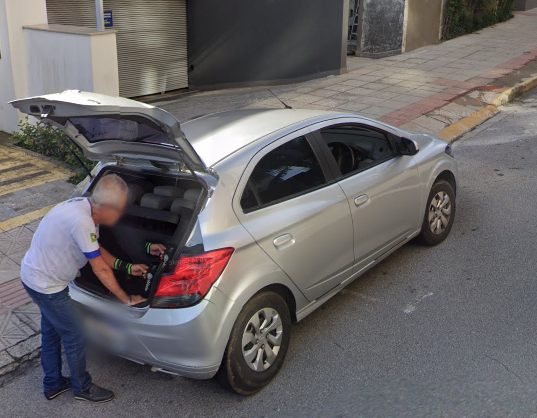car: (41, 107, 456, 397)
